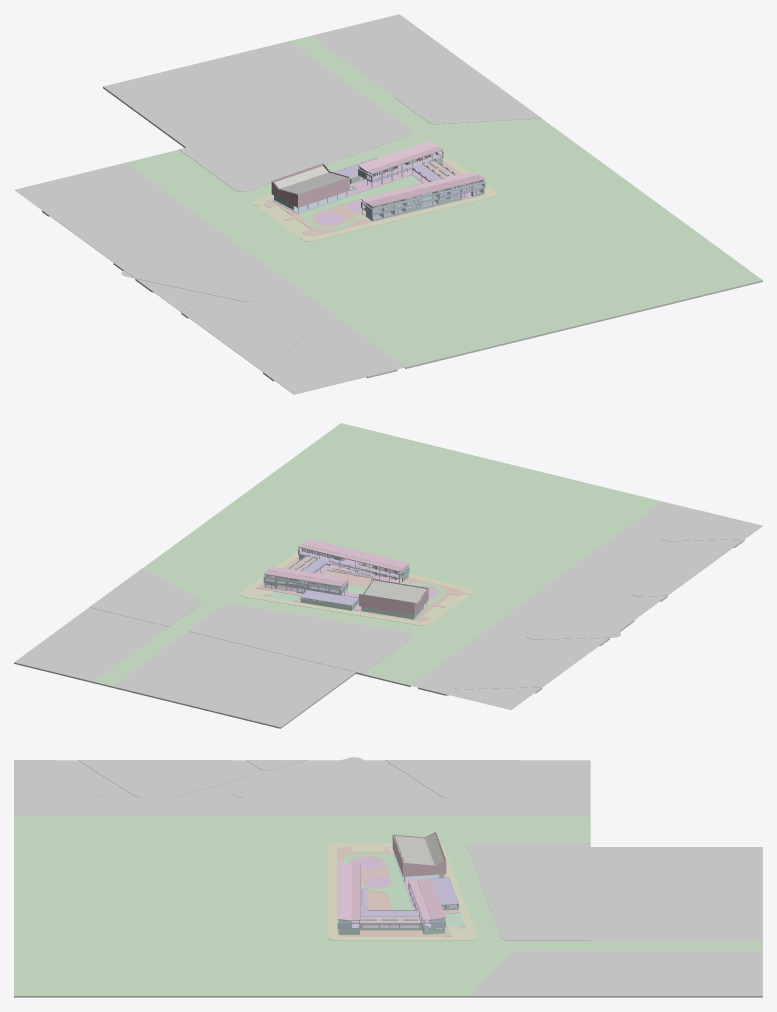
The model's file is escuela.glb.
The picture shows the model from 3 angles, top to bottom: view 1: azimuth 30°, elevation 25°; view 2: azimuth 150°, elevation 25°; view 3: azimuth 270°, elevation 25°; orthographic projection. The views are drawn at different scales.
Visible parts, largest first — view 1: Color_M08, FrontColor, Color_A07, Color_D05, Color_G01, Color_A05, Color_G06, Color_L06, Granite_Light_Gray, Color_A04, Color_L02, Color_A02 (+2 smaller); view 2: Color_M08, FrontColor, Color_D05, Color_A07, Color_G01, Color_A02, Color_L06, Color_G06, Granite_Light_Gray, Color_A04, Color_J02, Color_L02; view 3: Color_M08, FrontColor, Color_D05, Color_A07, Color_G01, Color_A02, Color_A05, Granite_Light_Gray, Color_G06, Color_L06, Color_A06, Color_L02.
Part boxes in pixels (<box>): Color_M08: <box>126,36,762,367</box>; FrontColor: <box>14,14,762,394</box>; Color_A07: <box>358,141,485,206</box>; Color_D05: <box>253,151,497,241</box>; Color_G01: <box>264,160,485,236</box>; Color_A05: <box>298,175,421,229</box>; Color_G06: <box>271,163,349,207</box>; Color_L06: <box>273,155,484,221</box>; Granite_Light_Gray: <box>274,166,346,194</box>; Color_A04: <box>358,150,485,215</box>; Color_L02: <box>298,169,481,219</box>; Color_A02: <box>298,150,455,213</box>; Color_M08: <box>95,423,661,686</box>; FrontColor: <box>14,501,762,728</box>; Color_D05: <box>240,549,474,625</box>; Color_A07: <box>263,538,409,586</box>; Color_G01: <box>257,556,463,621</box>; Color_A02: <box>289,547,426,605</box>; Color_L06: <box>264,555,427,619</box>; Color_G06: <box>359,579,428,614</box>; Granite_Light_Gray: <box>364,580,426,603</box>; Color_A04: <box>263,548,409,595</box>; Color_J02: <box>270,549,402,594</box>; Color_L02: <box>266,564,402,610</box>; Color_M08: <box>14,816,762,995</box>; FrontColor: <box>14,757,762,997</box>; Color_D05: <box>328,843,477,940</box>; Color_A07: <box>337,862,445,920</box>; Color_G01: <box>337,846,465,936</box>; Color_A02: <box>359,854,458,925</box>; Color_A05: <box>341,853,413,910</box>; Granite_Light_Gray: <box>394,834,443,865</box>; Color_G06: <box>392,832,446,876</box>; Color_L06: <box>338,874,458,934</box>; Color_A06: <box>352,858,390,887</box>; Color_L02: <box>362,871,457,929</box>.
Size of the model in its own units: 307 by 13.15 by 407.
